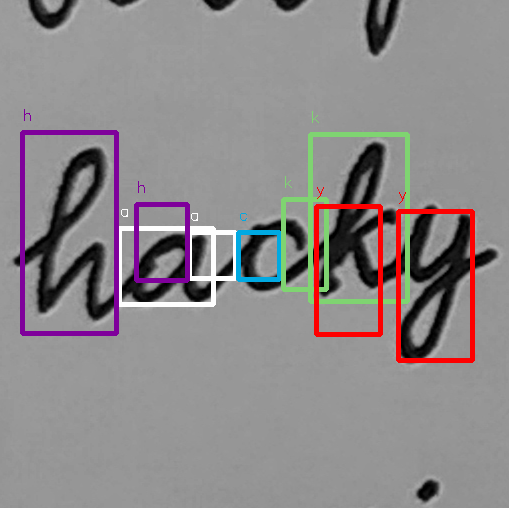a: (125, 227, 215, 312)
c: (234, 212, 313, 297)
h: (31, 143, 118, 325)
k: (314, 137, 402, 299)
y: (396, 199, 477, 368)
